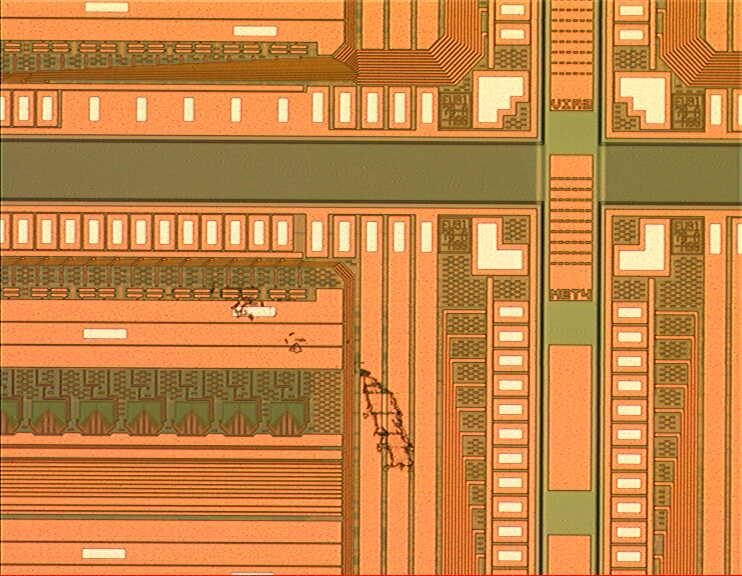SCRATCH: (189, 271, 422, 481)
